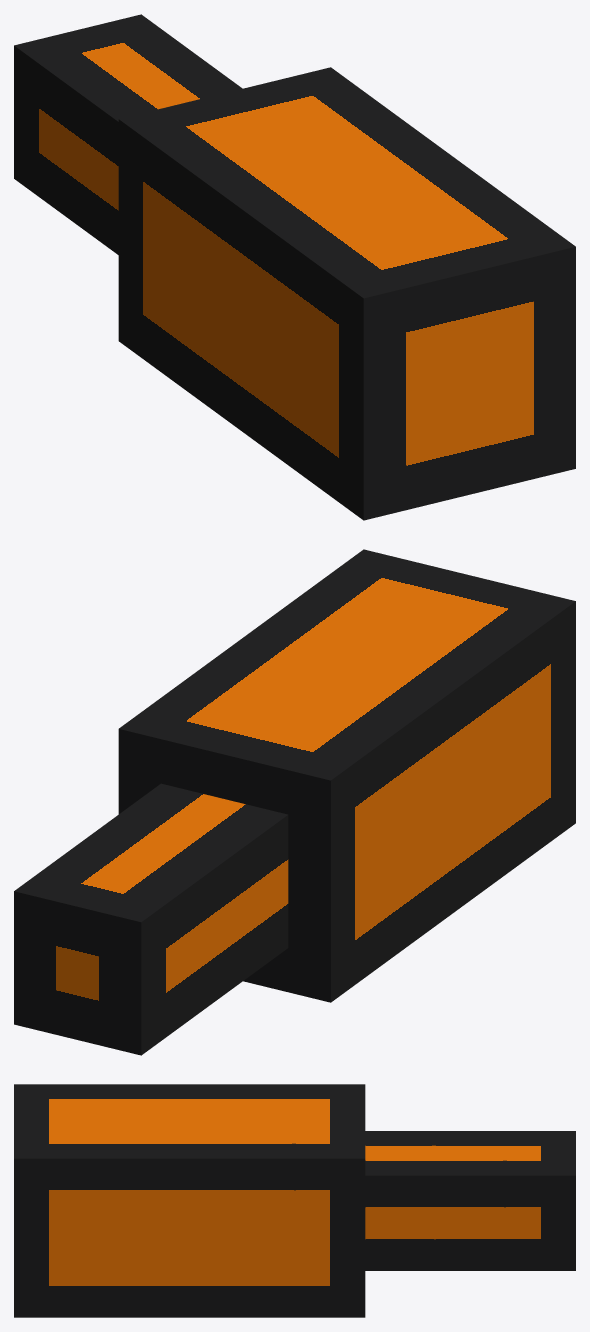
The model's file is lowbullet.glb.
The picture shows the model from 3 angles, top to bottom: view 1: azimuth 30°, elevation 25°; view 2: azimuth 150°, elevation 25°; view 3: azimuth 270°, elevation 25°; orthographic projection. The views are drawn at different scales.
Parts seen in each view (by area): view 1: cube.001, cube; view 2: cube.001, cube; view 3: cube.001, cube.
Boxes of the visible parts, x1=… form: cube.001: x1=118, y1=67, x2=575, y2=520; cube: x1=14, y1=14, x2=242, y2=254; cube.001: x1=118, y1=549, x2=575, y2=1002; cube: x1=14, y1=783, x2=288, y2=1055; cube.001: x1=14, y1=1084, x2=365, y2=1317; cube: x1=365, y1=1131, x2=575, y2=1270.
Size of the model in its own units: 0.1562 by 0.1562 by 0.5.
1 material, 1 textured.
